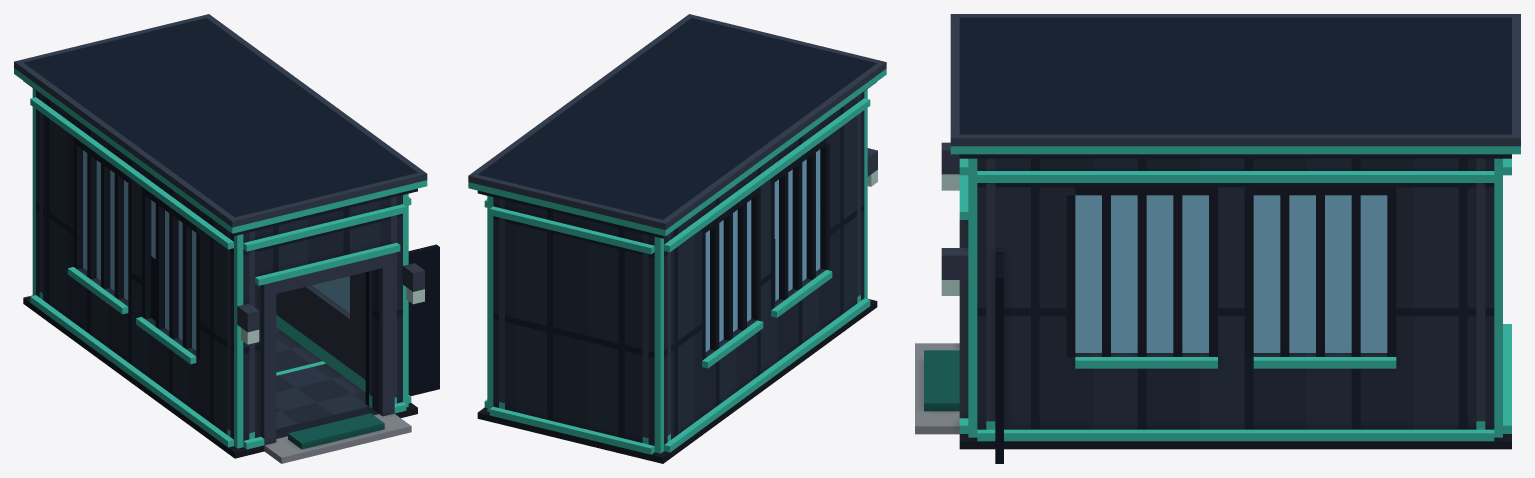
Rendered from control_e4_l2.glb.
The picture shows the model from 3 angles, left to right: view 1: azimuth 30°, elevation 25°; view 2: azimuth 150°, elevation 25°; view 3: azimuth 270°, elevation 25°; orthographic projection. The views are drawn at different scales.
Parts seen in each view (by area): view 1: CutRoof, Base, CutNX, CutPZ, CutPX, CutNZ; view 2: CutRoof, CutNX, CutNZ, Base, CutPZ; view 3: CutPX, CutRoof, Base, CutPZ, CutNZ.
Boxes of the visible parts, bbox=[...] form: CutRoof: bbox=[14, 14, 427, 235]; Base: bbox=[23, 243, 439, 463]; CutNX: bbox=[30, 96, 233, 384]; CutPZ: bbox=[227, 193, 439, 392]; CutPX: bbox=[300, 197, 411, 336]; CutNZ: bbox=[32, 88, 42, 250]; CutRoof: bbox=[468, 14, 886, 238]; CutNX: bbox=[664, 97, 870, 389]; CutNZ: bbox=[487, 196, 670, 397]; Base: bbox=[477, 239, 877, 463]; CutPZ: bbox=[857, 89, 877, 252]; CutPX: bbox=[977, 158, 1494, 368]; CutRoof: bbox=[950, 14, 1520, 158]; Base: bbox=[915, 324, 1511, 463]; CutPZ: bbox=[941, 142, 1003, 391]; CutNZ: bbox=[1476, 158, 1511, 364].
Bounding box in the file's own units: 3.8 × 3.9 × 6.8.
